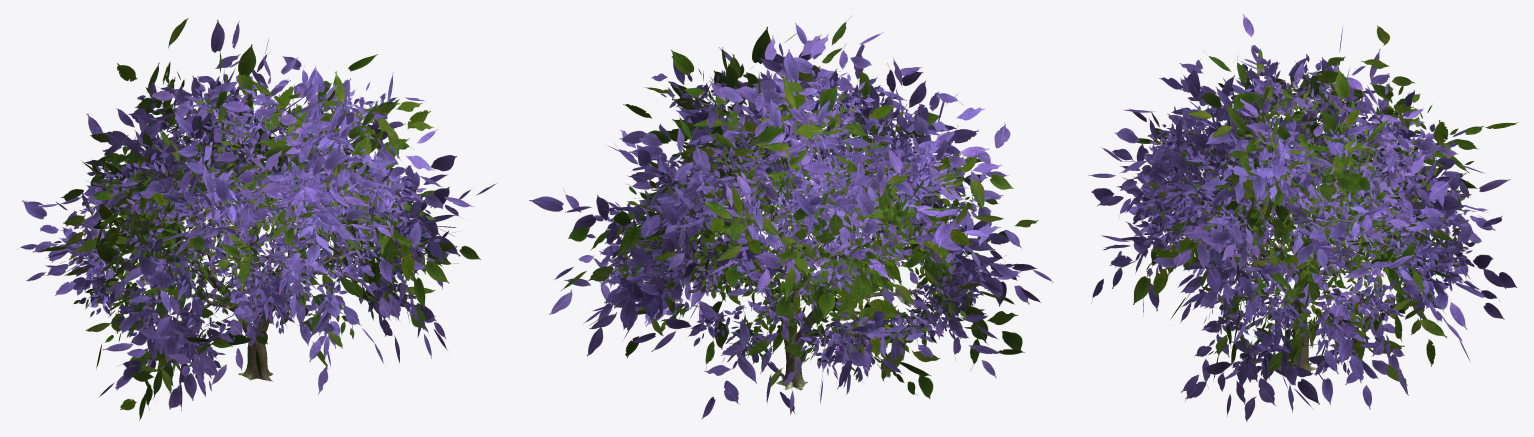
Rendered from jacaranda.glb.
3 renders of one model, left to right at view 1: azimuth 30°, elevation 25°; view 2: azimuth 150°, elevation 25°; view 3: azimuth 270°, elevation 25°, orthographic. The views are drawn at different scales.
Visible parts, largest first — view 1: lod1_leaves, lod0_leaves, lod0; view 2: lod1_leaves, lod0_leaves, lod0; view 3: lod1_leaves, lod0_leaves, lod0.
Part boxes in pixels (<box>): lod1_leaves: <box>16,18,496,420</box>; lod0_leaves: <box>54,71,448,391</box>; lod0: <box>140,179,364,381</box>; lod1_leaves: <box>529,15,1053,419</box>; lod0_leaves: <box>587,63,998,382</box>; lod0: <box>687,187,919,390</box>; lod1_leaves: <box>1088,14,1518,421</box>; lod0_leaves: <box>1126,54,1487,382</box>; lod0: <box>1226,160,1374,375</box>.
Size of what is drawn, in the model's own units: 14.85 by 11.79 by 13.64.
2 materials, 2 textured.
